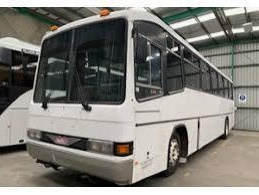bus: (25, 10, 236, 187)
